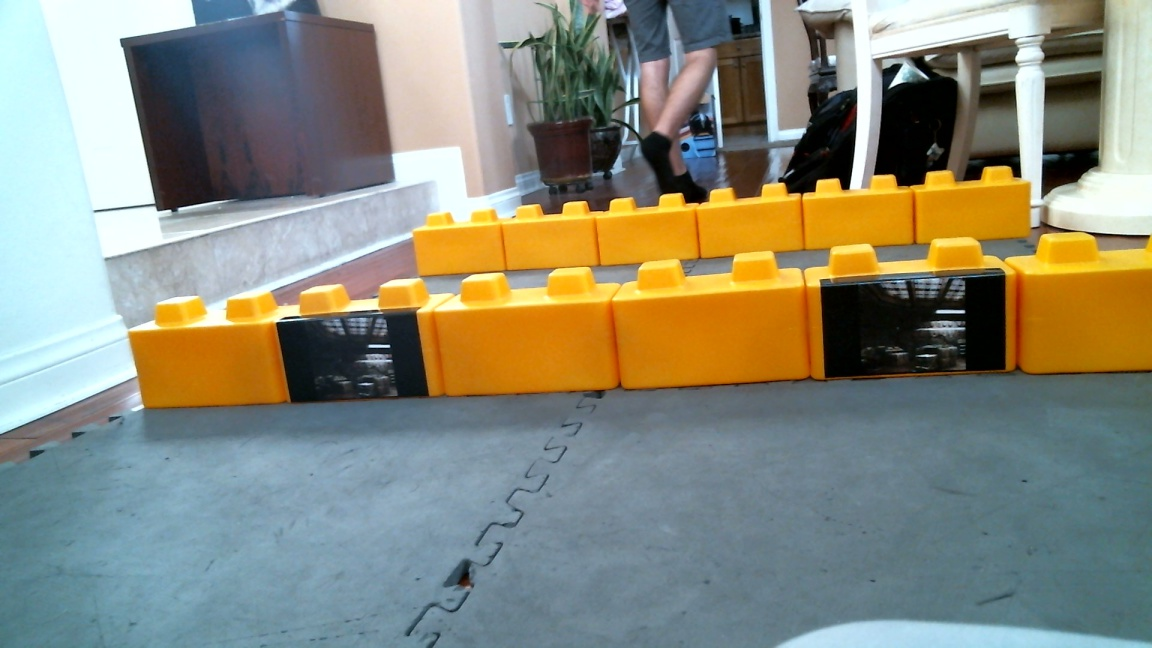skystone: (804, 238, 1018, 382), (274, 278, 439, 404)
stone: (611, 251, 812, 391), (434, 266, 619, 393), (1010, 232, 1152, 378), (127, 290, 287, 407), (910, 166, 1032, 243), (695, 182, 806, 260), (802, 173, 915, 249), (593, 190, 705, 265), (500, 201, 605, 271), (412, 207, 506, 275)
